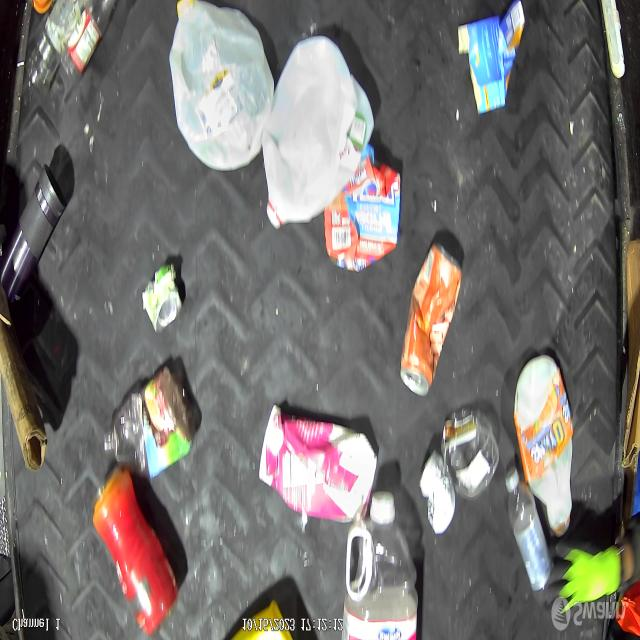can: (398, 241, 464, 395), (144, 258, 187, 328)
milk_jug: (264, 35, 378, 236), (162, 0, 273, 172)
non_white_jug: (258, 403, 377, 527)
plastic_bottle: (341, 489, 420, 640), (494, 458, 554, 594), (60, 0, 118, 84), (25, 0, 70, 97)
